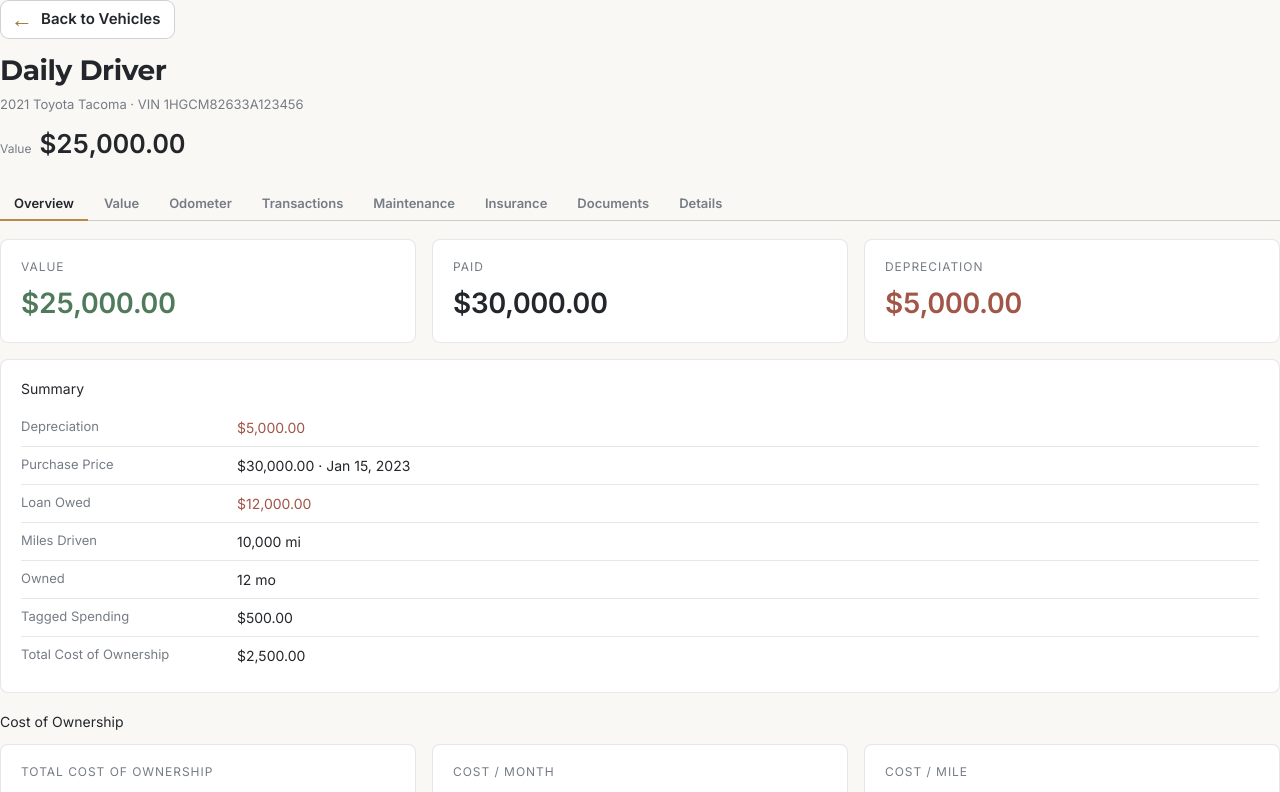
Scenario: VehicleDetail — transactions tab › renders pending transactions with the pending header
The image size is (1280, 792).
Expected: the heading "Daily Driver" is shown, [0,52,166,86]
Click the button "Transactions".
click(303, 204)  # box [248,187,357,221]
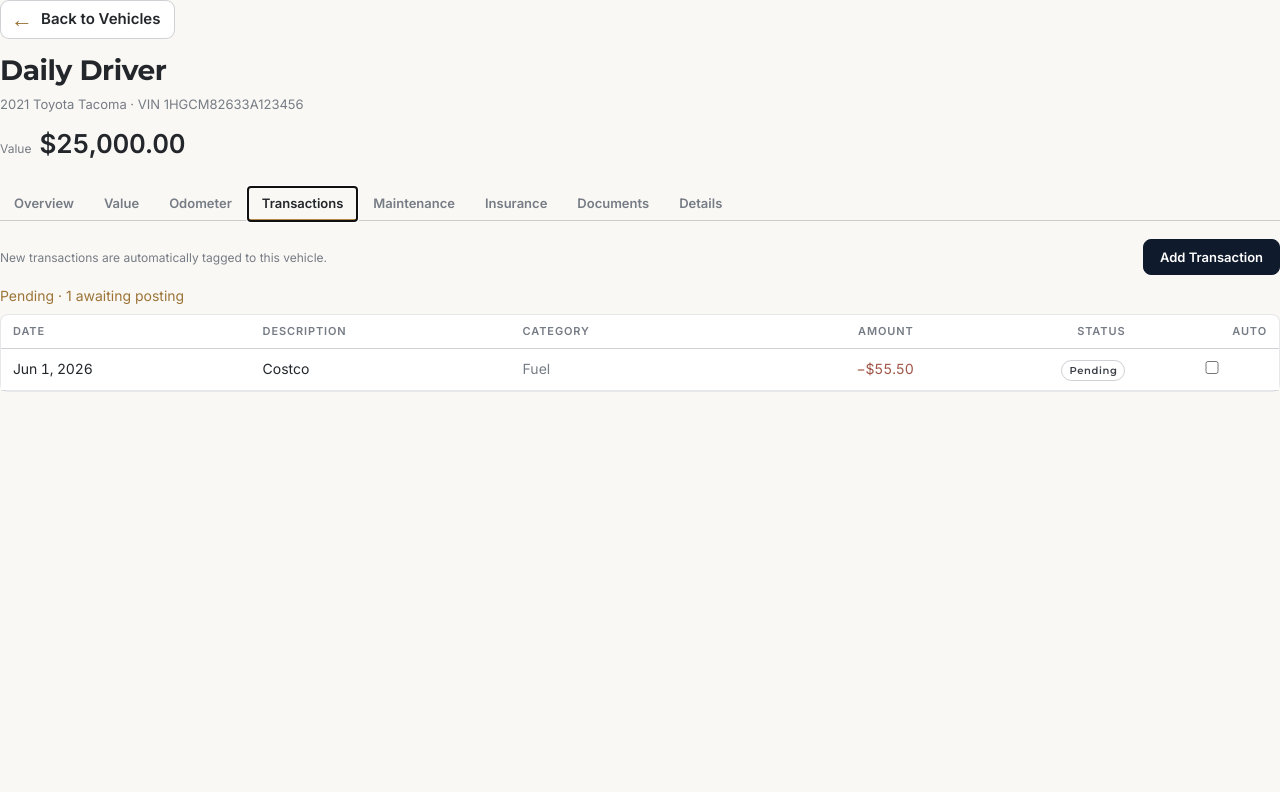
Expected: the text "Pending · 1 awaiting posting" is shown, [0,287,184,304]
Expected: the text "Costco" is shown, [251,348,511,390]
